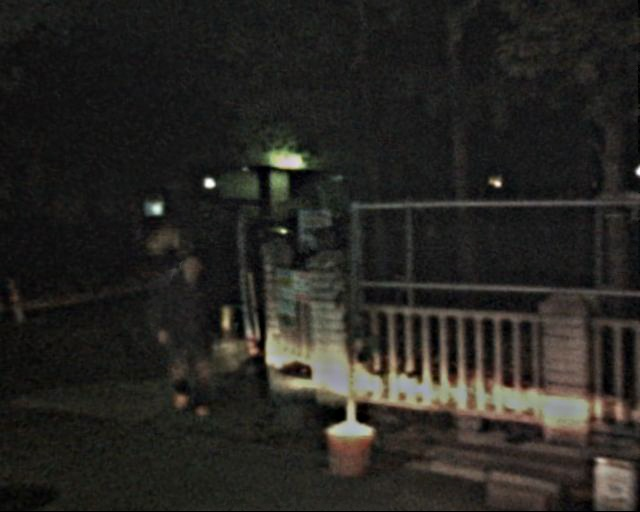person: (149, 242, 216, 423)
